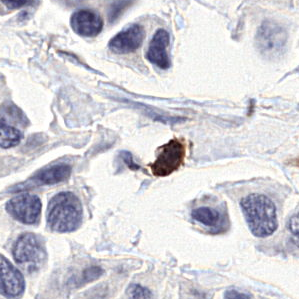Lymphocyte: (151, 137, 188, 176)
